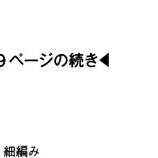enseble_chain: (20, 51, 49, 70), (84, 53, 99, 68), (67, 52, 80, 69), (2, 145, 18, 158), (54, 53, 68, 67), (14, 144, 28, 158)
